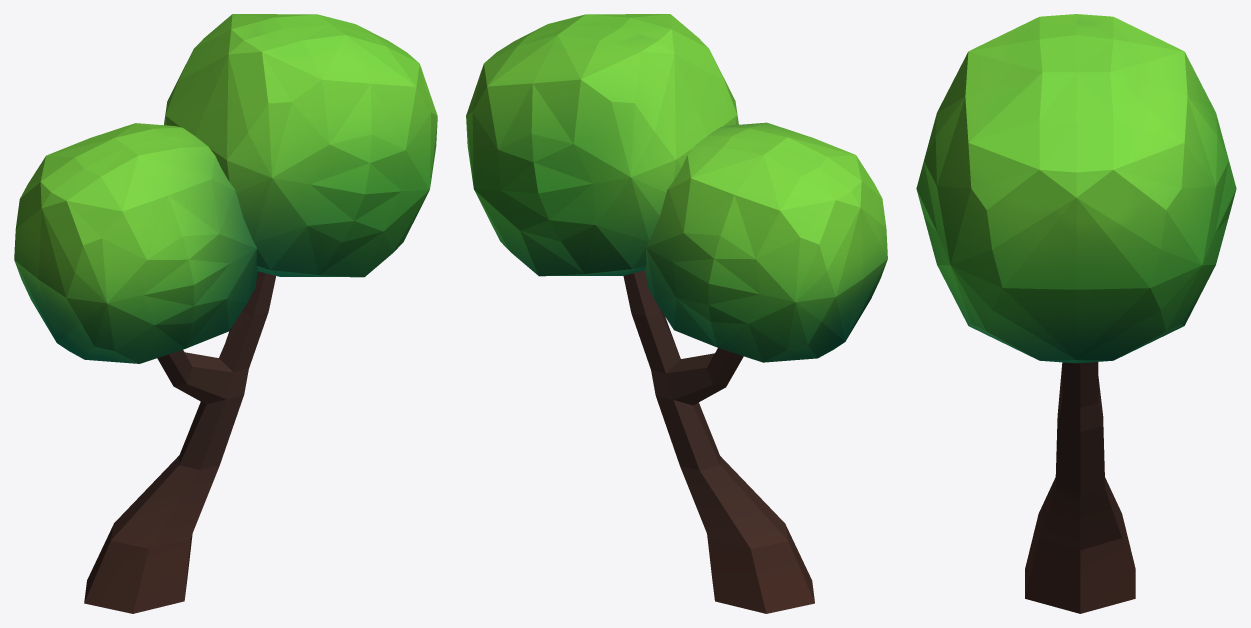
Rendered from tree_textured.fbx.
3 views of the same model, side by side, from view 1: azimuth 30°, elevation 25°; view 2: azimuth 150°, elevation 25°; view 3: azimuth 270°, elevation 25° (orthographic). The views are drawn at different scales.
Visible parts, largest first — view 1: tree, tree1, tree_stump; view 2: tree, tree1, tree_stump; view 3: tree, tree_stump.
Boxes of the visible parts, <box> form: tree: <box>164,14,437,277</box>; tree1: <box>14,123,257,363</box>; tree_stump: <box>84,271,275,613</box>; tree: <box>466,14,738,276</box>; tree1: <box>645,122,887,362</box>; tree_stump: <box>623,270,814,613</box>; tree: <box>916,14,1236,363</box>; tree_stump: <box>1025,362,1135,613</box>.
Size of the model in its own units: 436 by 584 by 267.
